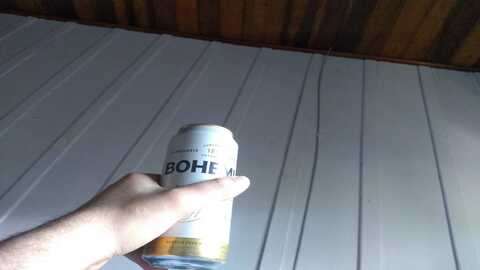bohemia: (153, 120, 240, 266)
